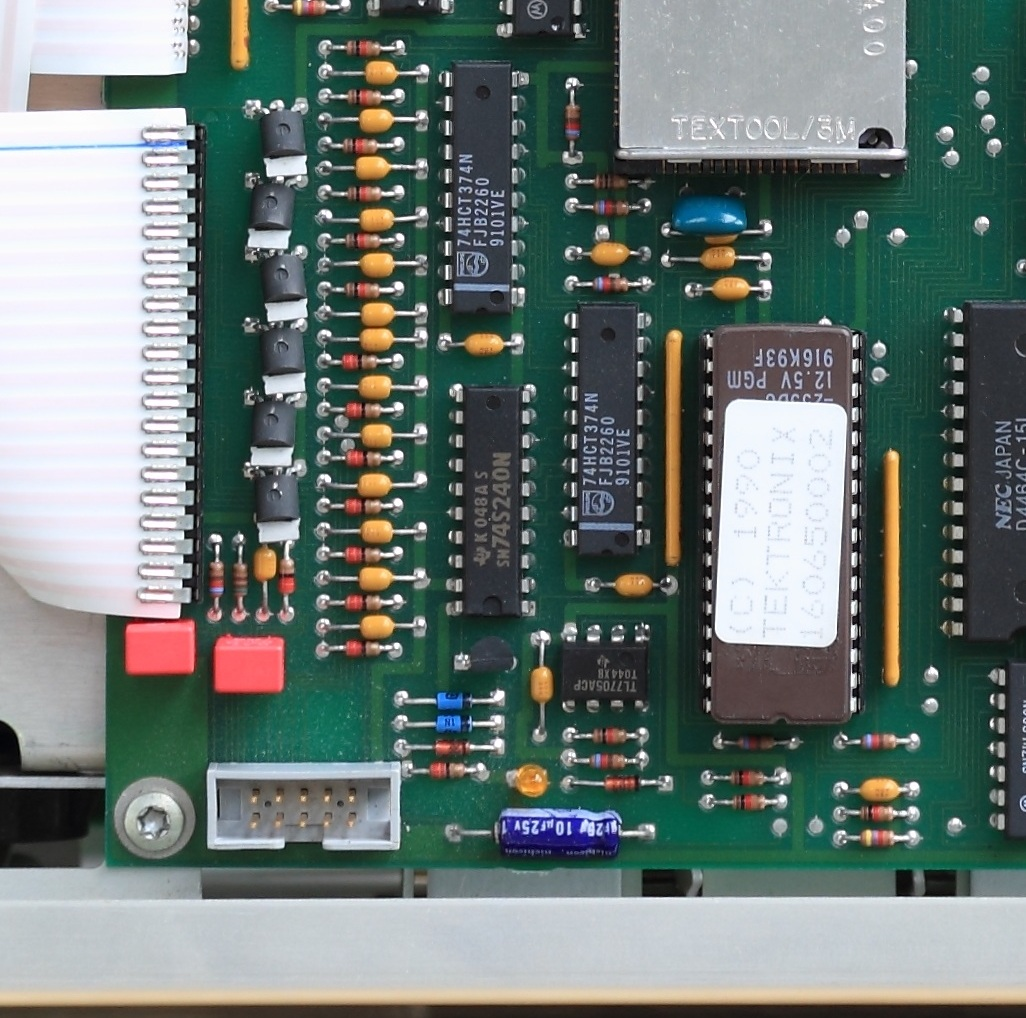Capacitor: (483, 803, 628, 863)
Diode: (423, 688, 483, 713), (428, 713, 483, 738), (599, 772, 647, 796), (428, 738, 477, 758)
LED: (511, 759, 550, 799)
Resistor: (338, 34, 393, 65), (338, 493, 388, 522), (275, 549, 300, 606), (851, 825, 903, 851), (723, 790, 774, 815), (340, 229, 386, 256), (852, 728, 903, 752), (337, 399, 388, 423), (335, 135, 386, 159), (559, 98, 583, 149), (852, 798, 899, 824), (283, 1, 336, 24), (722, 764, 774, 787), (337, 638, 390, 660), (337, 351, 385, 375), (425, 758, 471, 783), (342, 447, 388, 472), (340, 544, 387, 568), (338, 280, 387, 303), (585, 196, 636, 218), (578, 751, 634, 771), (343, 85, 386, 111), (727, 733, 784, 752), (343, 184, 388, 208), (229, 556, 251, 604), (585, 275, 640, 294), (584, 171, 636, 191), (339, 592, 388, 613), (584, 726, 634, 746), (207, 556, 227, 606)
